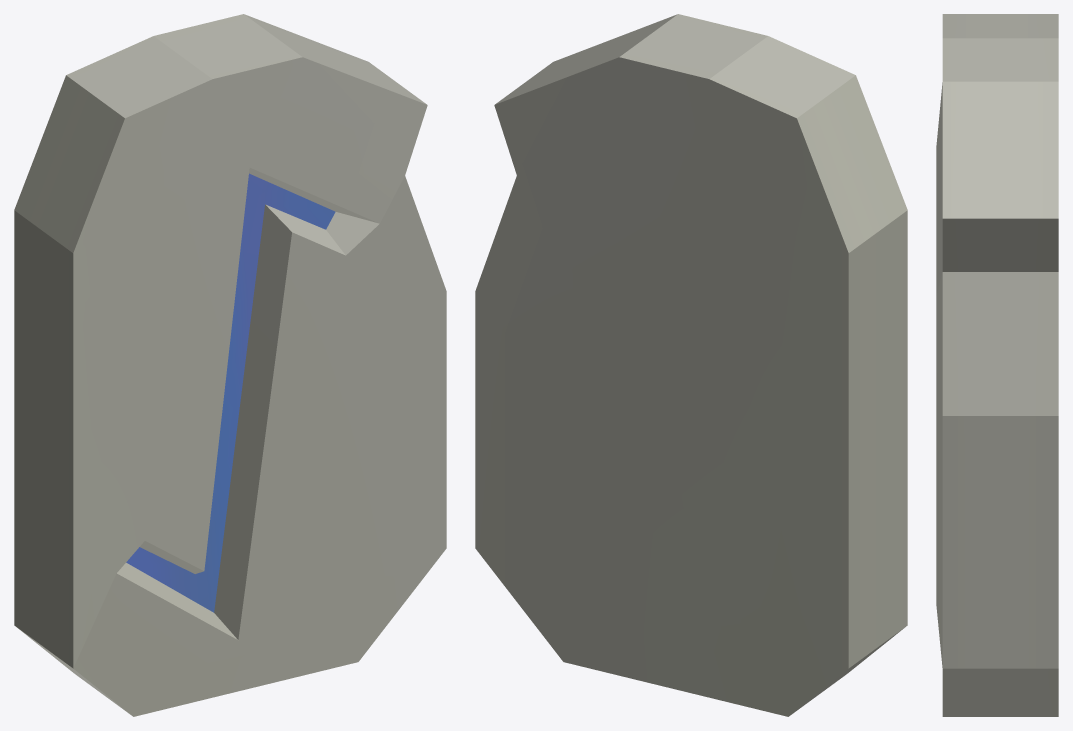
The model's file is rune.fbx.
3 renders of one model, left to right at view 1: azimuth 30°, elevation 25°; view 2: azimuth 150°, elevation 25°; view 3: azimuth 270°, elevation 25°, orthographic.
Visible parts, largest first — view 1: Cube.039; view 2: Cube.039; view 3: Cube.039.
Boxes of the visible parts, box(x1,y1,x2,y2) form: Cube.039: box(14, 14, 446, 716); Cube.039: box(475, 14, 907, 716); Cube.039: box(936, 14, 1058, 716).
Size of the model in its own units: 32.26 by 51.05 by 9.31.
